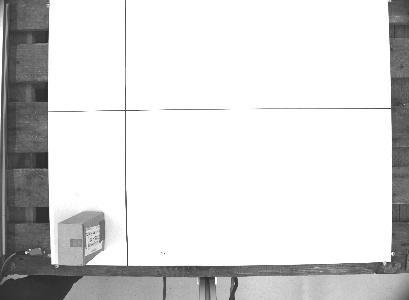b6: (55, 209, 106, 268)
